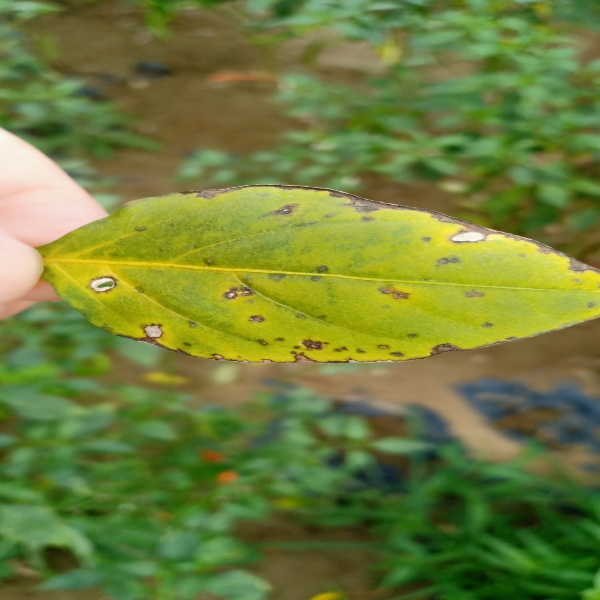Anthrax: (88, 268, 519, 363), (180, 186, 593, 273), (573, 277, 600, 310)
